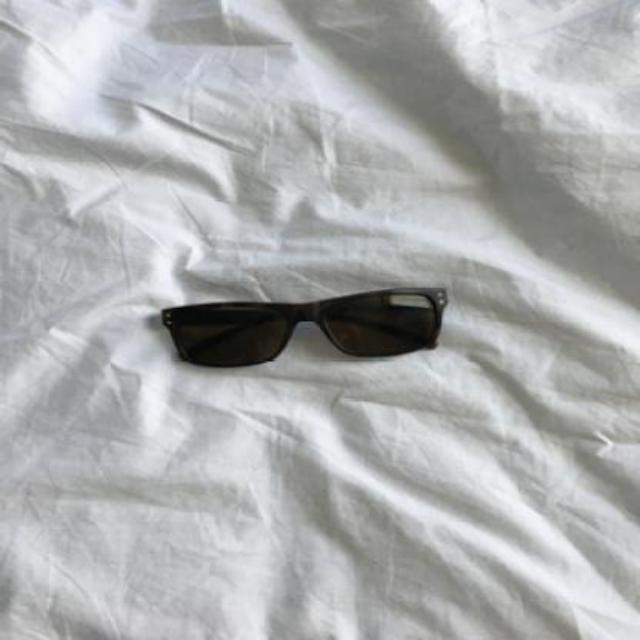glasses: (158, 284, 448, 368)
